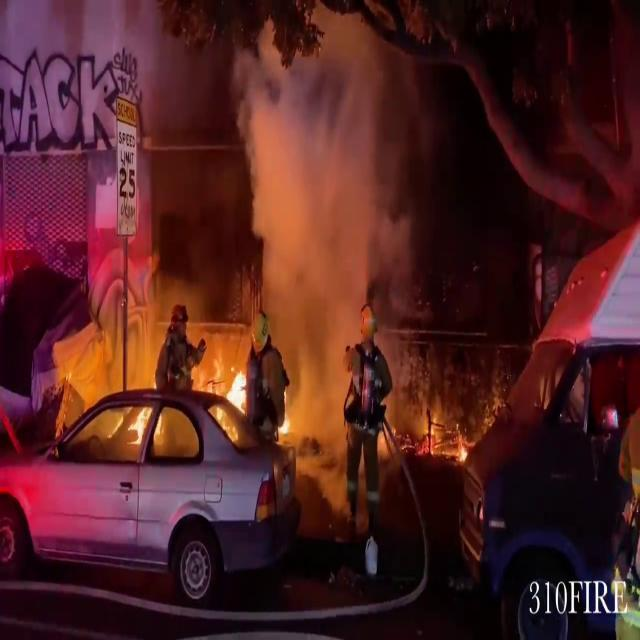Fire: (202, 346, 254, 425)
Smoke: (228, 8, 424, 396)
